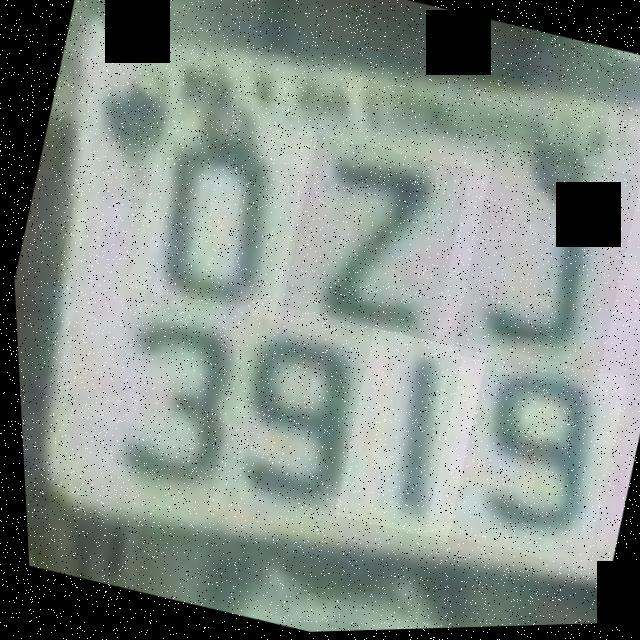1: (321, 327, 491, 546)
3: (40, 256, 277, 523)
9: (177, 288, 399, 533), (411, 340, 630, 576)
J: (438, 143, 640, 394)
O: (116, 76, 324, 325)
Z: (271, 133, 474, 347)
